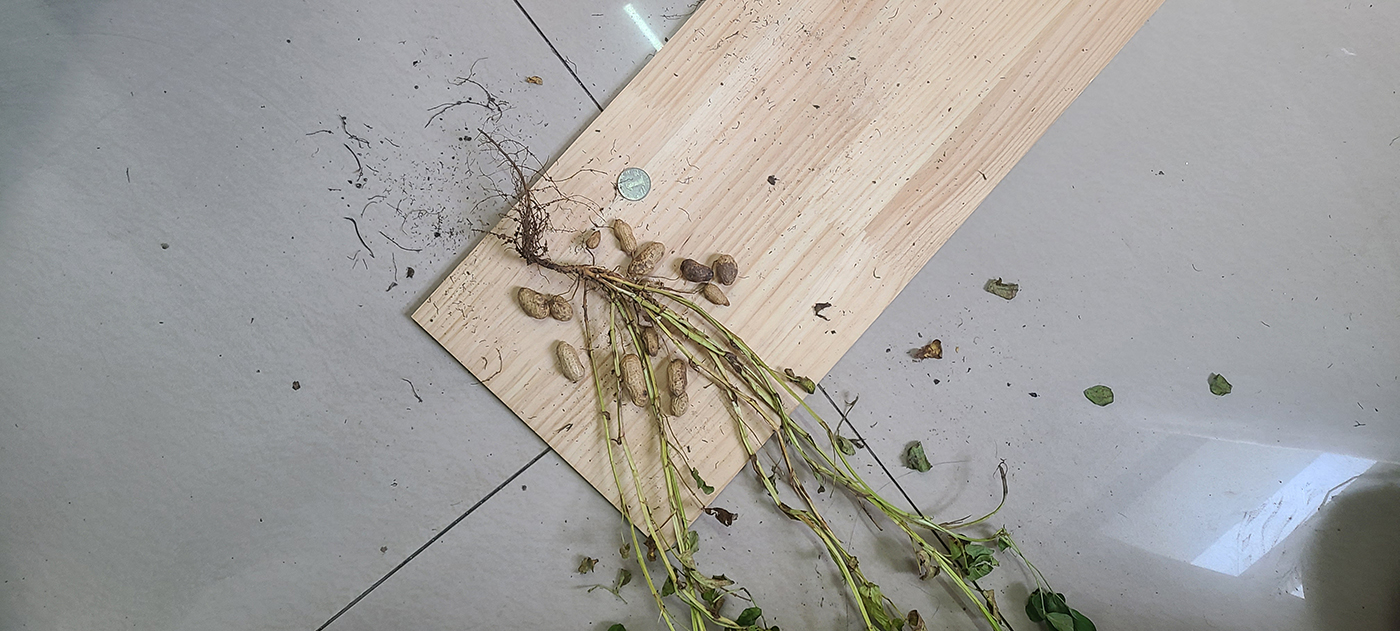h: (619, 355, 650, 406), (628, 242, 666, 278), (667, 359, 690, 418), (556, 341, 586, 381), (517, 288, 550, 319), (613, 218, 638, 256), (549, 295, 573, 322), (702, 284, 730, 307), (640, 325, 659, 358)
l: (680, 257, 714, 282), (714, 255, 738, 286)
